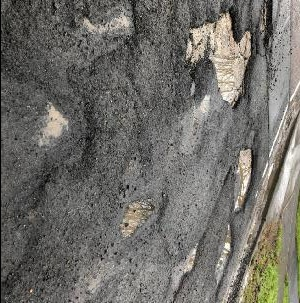pothole: (184, 6, 258, 114), (80, 0, 144, 43), (231, 146, 256, 214), (118, 196, 156, 239), (213, 223, 236, 287), (261, 0, 277, 48)
